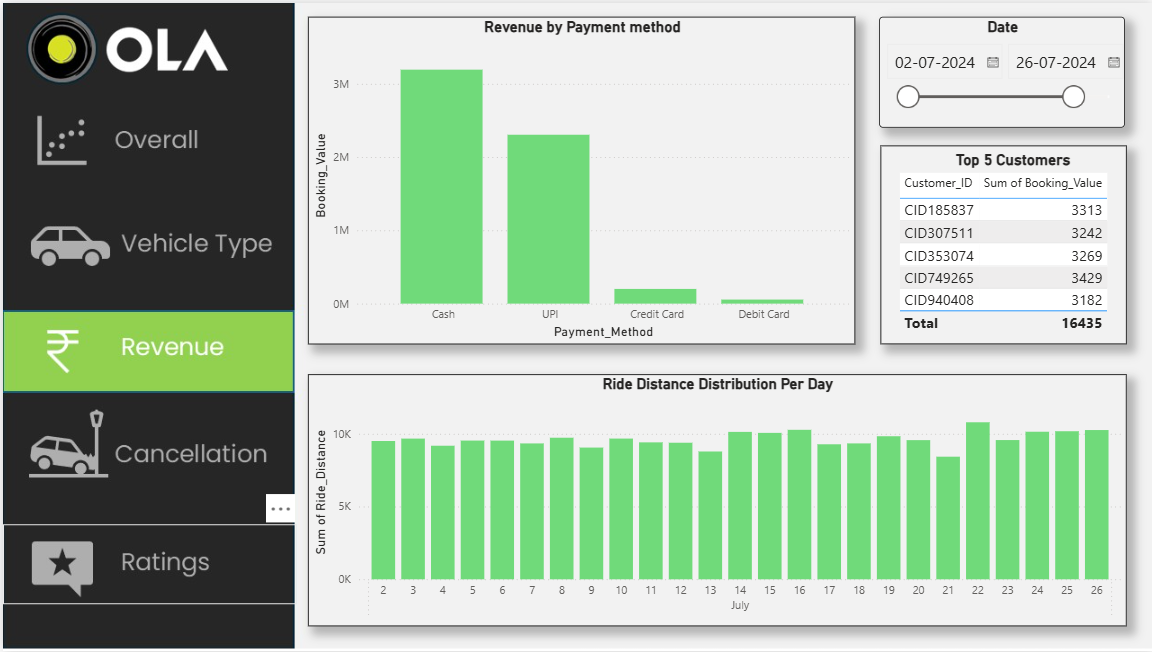

This screenshot's page, from the dashboard's own definition file:
{"tool":"powerbi","page":{"name":"Revenue","canvas":[1280,720],"ordinal":2},"visuals":[{"type":"actionButton","box":[0,107.4,326.5,97.1],"z":0},{"type":"actionButton","box":[0,220.6,326.5,95.6],"z":1000},{"type":"actionButton","box":[0,444.1,326.5,95.6],"z":2000},{"type":"actionButton","box":[0,579.4,326.5,88.2],"z":3000},{"type":"columnChart","title":"Revenue by Payment method","fields":{"Y":["Sum(booking123.Booking_Value)"],"Category":["booking123.Payment_Method"]},"box":[338.4,15.1,608.1,364],"z":4000},{"type":"columnChart","title":"Ride Distance Distribution Per Day","fields":{"Y":["Sum(booking123.Ride_Distance)"],"Category":["booking123.Date.Variation.Date Hierarchy.Month","booking123.Date.Variation.Date Hierarchy.Day"]},"box":[338.4,412.8,909.3,280.2],"z":5000},{"type":"slicer","title":"Date","fields":{"Values":["booking123.Date"]},"box":[974.3,15.1,273.1,123.5],"z":6000},{"type":"tableEx","title":"Top 5 Customers","fields":{"Values":["booking123.Customer_ID","Sum(booking123.Booking_Value)"]},"box":[974.4,158.1,273.3,220.9],"z":7000}]}

Visuals, with their boxes in screenshot pixels (x1, y1, x2, y2), scaled from the page's 1280x720 canvas onto the 1152x652 screenshot:
actionButton: [0, 97, 294, 185]
actionButton: [0, 200, 294, 286]
actionButton: [0, 402, 294, 489]
actionButton: [0, 525, 294, 605]
"Revenue by Payment method" columnChart: [305, 14, 852, 343]
"Ride Distance Distribution Per Day" columnChart: [305, 374, 1123, 628]
"Date" slicer: [877, 14, 1123, 126]
"Top 5 Customers" tableEx: [877, 143, 1123, 343]
